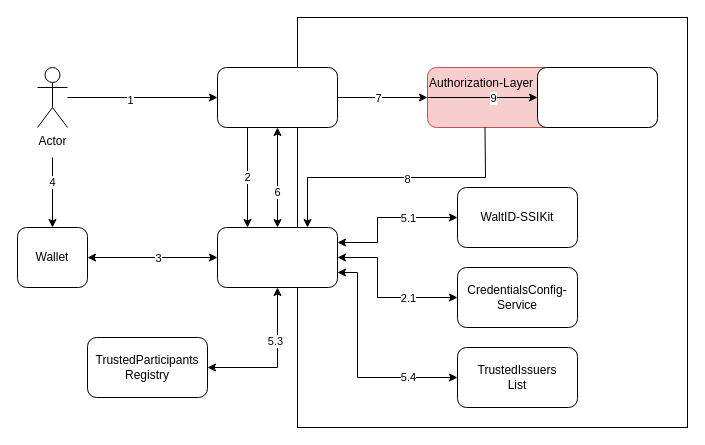
Image size: 705x445. Some labels were removed from this diagram. Each missing label, with the centre of its shape:
"Backend-Service" goes at [597,97].
"Frontend-Application" goes at [277,97].
"VCVerifier" goes at [277,257].
